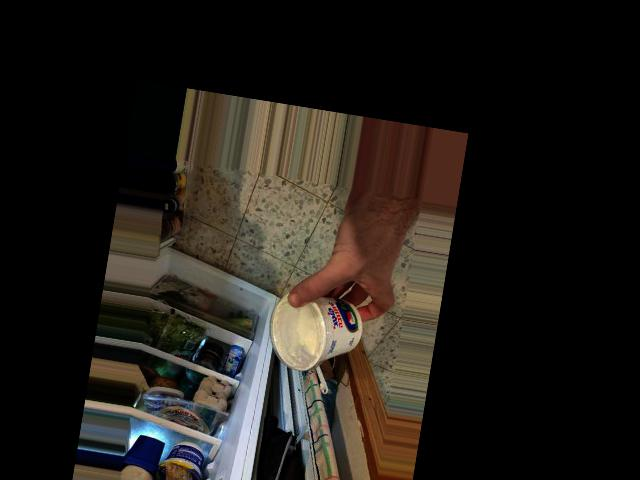cotage: (272, 285, 367, 374)
